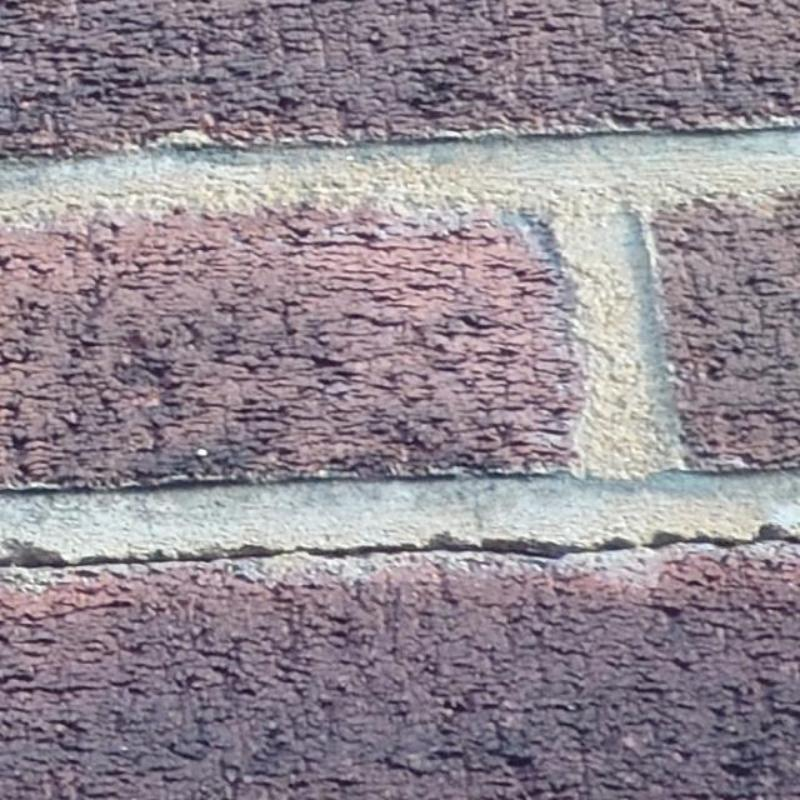pothole: (0, 517, 799, 567)
